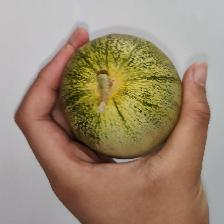gua: (63, 54, 158, 133)
